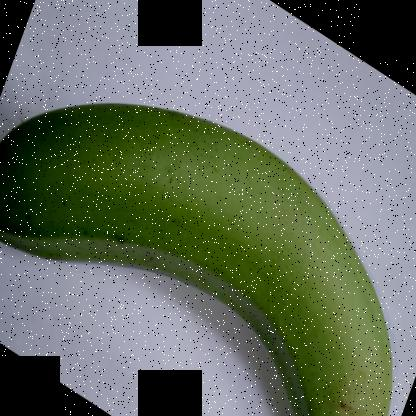freshunripe: (0, 98, 407, 415)
